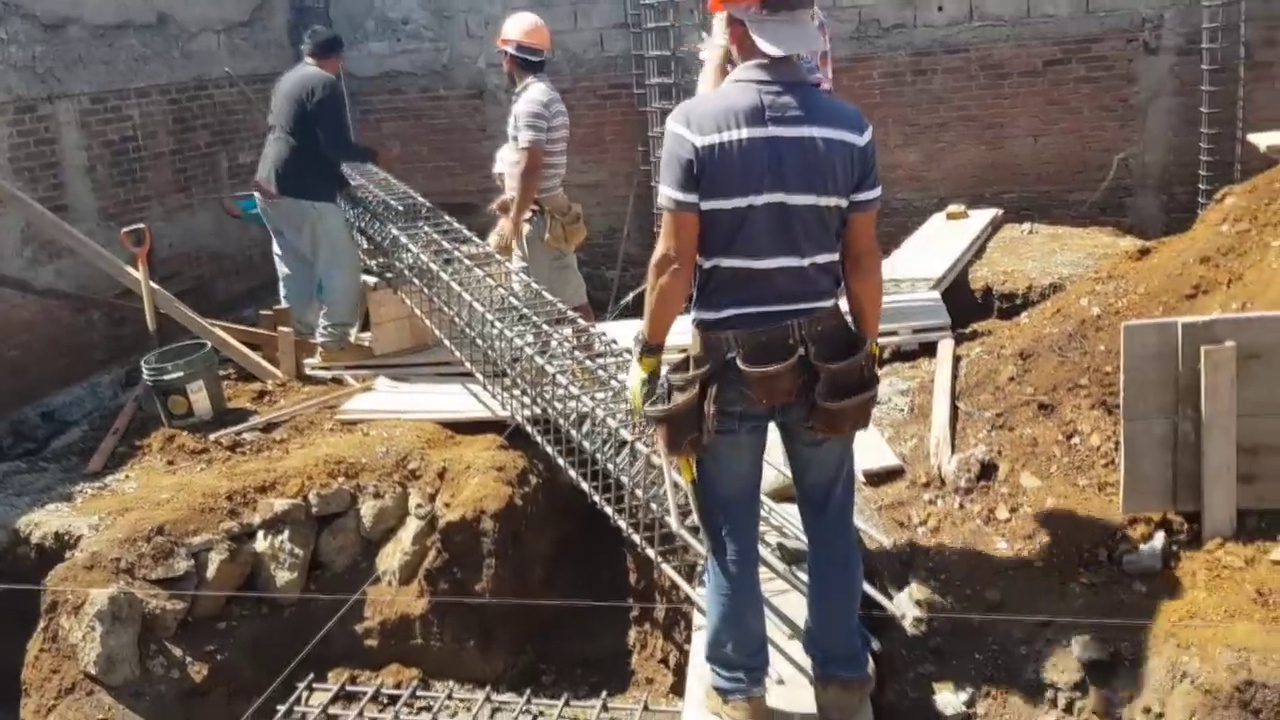helmet: (496, 12, 552, 59)
helmet-off: (721, 0, 820, 75), (297, 18, 338, 72)
helmet-on: (496, 10, 553, 90)
person: (622, 0, 907, 718), (246, 16, 369, 381), (485, 5, 576, 330)
